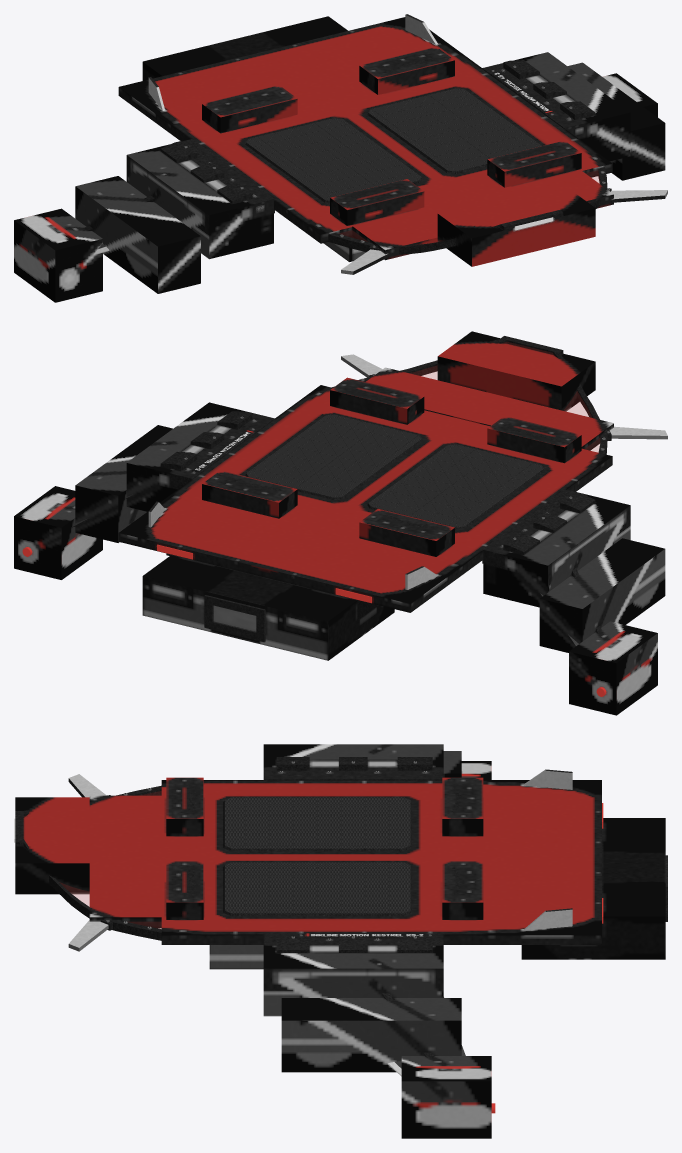
The model's file is kestrel-Dq2g7Qze.glb.
The picture shows the model from 3 angles, top to bottom: view 1: azimuth 30°, elevation 25°; view 2: azimuth 150°, elevation 25°; view 3: azimuth 270°, elevation 25°; orthographic projection. The views are drawn at different scales.
Visible parts, largest first — view 1: farBaked, body; view 2: farBaked, body, deck, glow; view 3: farBaked, body.
Boxes of the visible parts, x1,y1,x2,y2 form: farBaked: (14, 16, 665, 302); body: (83, 14, 667, 274); farBaked: (14, 331, 665, 715); body: (24, 336, 667, 693); deck: (410, 342, 599, 451); glow: (22, 544, 606, 696); farBaked: (15, 744, 665, 1138); body: (15, 757, 667, 1076).
Size of the model in its own units: 1.26 by 0.279 by 1.09.
4 materials, 3 textured.
